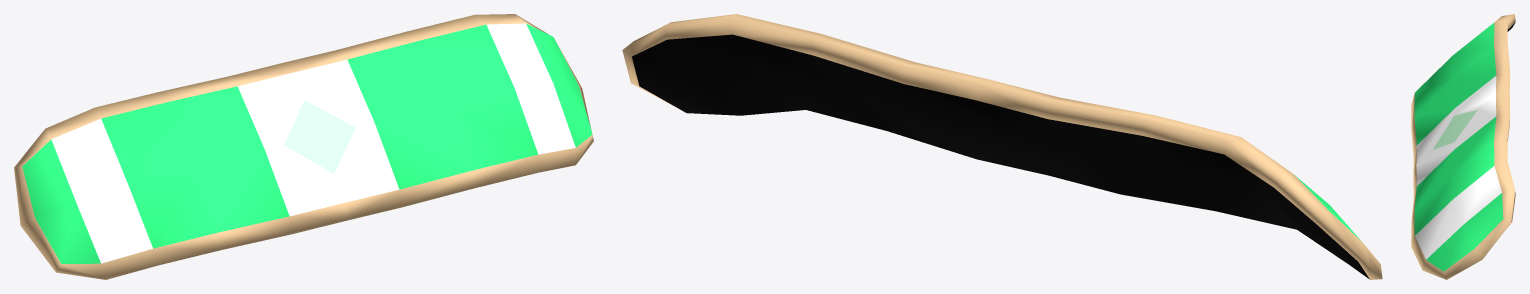
Rendered from SkateboardDeck.glb.
3 renders of one model, left to right at view 1: azimuth 30°, elevation 25°; view 2: azimuth 150°, elevation 25°; view 3: azimuth 270°, elevation 25°, orthographic. The views are drawn at different scales.
Visible parts, largest first — view 1: SkateDeck; view 2: SkateDeck; view 3: SkateDeck.
Part boxes in pixels (left/top/right/bottom): SkateDeck: left=14, top=14, right=593, bottom=279; SkateDeck: left=622, top=14, right=1382, bottom=279; SkateDeck: left=1411, top=14, right=1515, bottom=279.
Size of the model in its own units: 1.04 by 0.2164 by 0.2206.
Materials: 1 (1 with a texture image).
